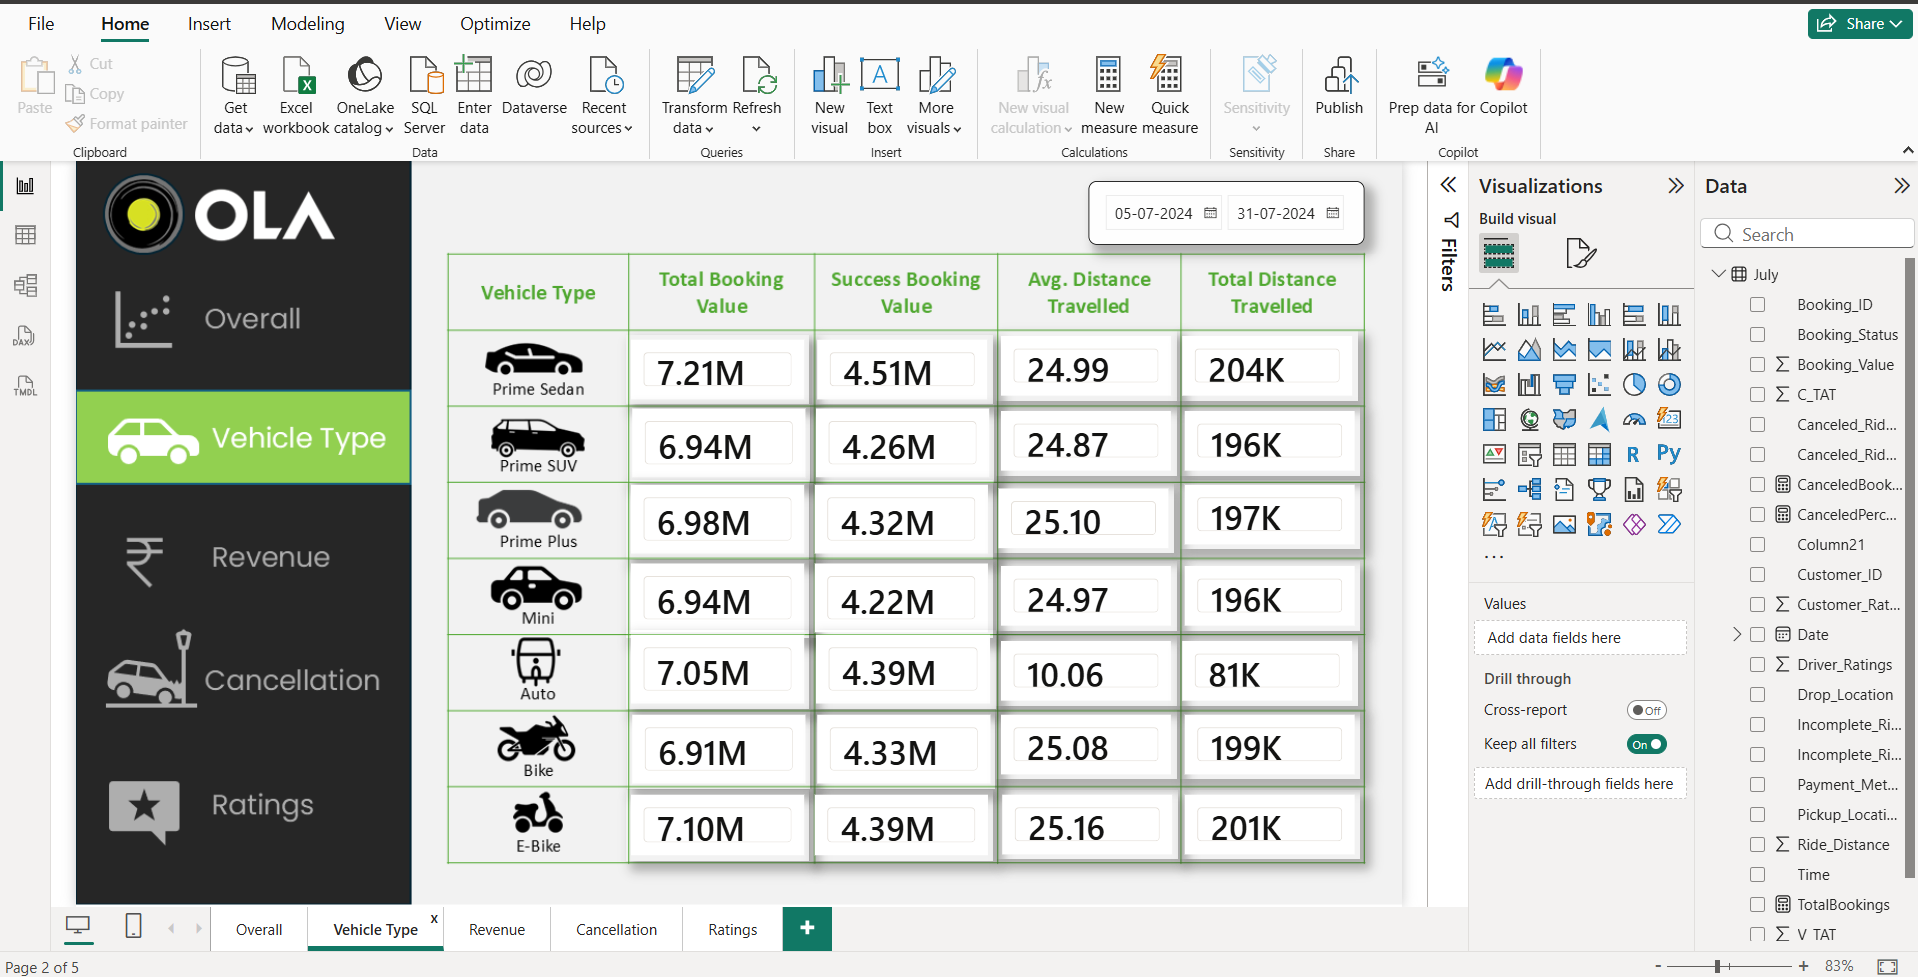

This screenshot's page, from the dashboard's own definition file:
{"tool":"powerbi","page":{"name":"Vehicle Type","canvas":[1280,720],"ordinal":1},"visuals":[{"type":"actionButton","box":[0,225.6,328.2,86.9],"z":0},{"type":"actionButton","box":[0,337.8,328.2,85.7],"z":1000},{"type":"actionButton","box":[0,444,319.7,94.1],"z":2000},{"type":"actionButton","box":[0,581.5,319.7,79.6],"z":3000},{"type":"actionButton","box":[0,114.6,328.2,83.2],"z":4000},{"type":"cardVisual","fields":{"Data":["Sum(July.Booking_Value)"]},"box":[531,167.4,177,67.2],"z":5000},{"type":"cardVisual","fields":{"Data":["Sum(July.Booking_Value)"]},"box":[532.4,234.6,177,76.8],"z":6000},{"type":"cardVisual","fields":{"Data":["Sum(July.Booking_Value)"]},"box":[531,307.4,177,76.8],"z":7000},{"type":"cardVisual","fields":{"Data":["Sum(July.Booking_Value)"]},"box":[531,384.2,177,76.8],"z":8000},{"type":"cardVisual","fields":{"Data":["Sum(July.Booking_Value)"]},"box":[531,452.8,177,76.8],"z":9000},{"type":"cardVisual","fields":{"Data":["Sum(July.Booking_Value)"]},"box":[532.4,529.7,177,76.8],"z":10000},{"type":"cardVisual","fields":{"Data":["Sum(July.Booking_Value)"]},"box":[531,606.5,177,68.6],"z":11000},{"type":"cardVisual","fields":{"Data":["Sum(July.Booking_Value)"]},"box":[710.8,167.4,174.3,67.2],"z":12000},{"type":"cardVisual","fields":{"Data":["Sum(July.Booking_Value)"]},"box":[709.4,234.6,177,76.8],"z":13000},{"type":"cardVisual","fields":{"Data":["Sum(July.Booking_Value)"]},"box":[708.1,307.4,177,76.8],"z":14000},{"type":"cardVisual","fields":{"Data":["Sum(July.Booking_Value)"]},"box":[708.1,384.2,177,76.8],"z":15000},{"type":"cardVisual","fields":{"Data":["Sum(July.Booking_Value)"]},"box":[709.4,452.8,178.4,76.8],"z":16000},{"type":"cardVisual","fields":{"Data":["Sum(July.Booking_Value)"]},"box":[710.8,529.7,177,76.8],"z":17000},{"type":"cardVisual","fields":{"Data":["Sum(July.Booking_Value)"]},"box":[708.1,606.5,177,68.6],"z":18000},{"type":"cardVisual","fields":{"Data":["Avg(July.Ride_Distance)"]},"box":[887.8,164.7,174.3,67.2],"z":19000},{"type":"cardVisual","fields":{"Data":["Avg(July.Ride_Distance)"]},"box":[887.8,236,174.3,67.2],"z":20000},{"type":"cardVisual","fields":{"Data":["Avg(July.Ride_Distance)"]},"box":[885.1,311.5,174.3,67.2],"z":21000},{"type":"cardVisual","fields":{"Data":["Avg(July.Ride_Distance)"]},"box":[887.8,385.6,174.3,67.2],"z":22000},{"type":"cardVisual","fields":{"Data":["Avg(July.Ride_Distance)"]},"box":[887.8,458.3,174.3,67.2],"z":23000},{"type":"cardVisual","fields":{"Data":["Avg(July.Ride_Distance)"]},"box":[887.8,529.7,174.3,67.2],"z":24000},{"type":"cardVisual","fields":{"Data":["Avg(July.Ride_Distance)"]},"box":[889.2,606.5,174.3,67.2],"z":25000},{"type":"cardVisual","fields":{"Data":["Sum(July.Ride_Distance)"]},"box":[1063.5,164.7,174.3,67.2],"z":26000},{"type":"cardVisual","fields":{"Data":["Sum(July.Ride_Distance)"]},"box":[1064.8,236,174.3,67.2],"z":27000},{"type":"cardVisual","fields":{"Data":["Sum(July.Ride_Distance)"]},"box":[1064.8,307.4,174.3,67.2],"z":28000},{"type":"cardVisual","fields":{"Data":["Sum(July.Ride_Distance)"]},"box":[1064.8,385.6,174.3,67.2],"z":29000},{"type":"cardVisual","fields":{"Data":["Sum(July.Ride_Distance)"]},"box":[1063.5,458.3,174.3,67.2],"z":30000},{"type":"cardVisual","fields":{"Data":["Sum(July.Ride_Distance)"]},"box":[1064.8,529.7,174.3,67.2],"z":31000},{"type":"cardVisual","fields":{"Data":["Sum(July.Ride_Distance)"]},"box":[1064.8,606.5,174.3,67.2],"z":32000},{"type":"slicer","title":"Date","fields":{"Values":["July.Date"]},"box":[977,19.2,266.2,61.7],"z":33000}]}

Visuals, with their boxes on the page's 1280x720 design canvas (x1, y1, x2, y2). These are canvas units, not pixel positions in the 1918x977 screenshot, which may show the page scaled, cropped or inside an application window:
actionButton: (left=0, top=226, right=328, bottom=312)
actionButton: (left=0, top=338, right=328, bottom=424)
actionButton: (left=0, top=444, right=320, bottom=538)
actionButton: (left=0, top=582, right=320, bottom=661)
actionButton: (left=0, top=115, right=328, bottom=198)
cardVisual - Sum(July.Booking_Value): (left=531, top=167, right=708, bottom=235)
cardVisual - Sum(July.Booking_Value): (left=532, top=235, right=709, bottom=311)
cardVisual - Sum(July.Booking_Value): (left=531, top=307, right=708, bottom=384)
cardVisual - Sum(July.Booking_Value): (left=531, top=384, right=708, bottom=461)
cardVisual - Sum(July.Booking_Value): (left=531, top=453, right=708, bottom=530)
cardVisual - Sum(July.Booking_Value): (left=532, top=530, right=709, bottom=606)
cardVisual - Sum(July.Booking_Value): (left=531, top=606, right=708, bottom=675)
cardVisual - Sum(July.Booking_Value): (left=711, top=167, right=885, bottom=235)
cardVisual - Sum(July.Booking_Value): (left=709, top=235, right=886, bottom=311)
cardVisual - Sum(July.Booking_Value): (left=708, top=307, right=885, bottom=384)
cardVisual - Sum(July.Booking_Value): (left=708, top=384, right=885, bottom=461)
cardVisual - Sum(July.Booking_Value): (left=709, top=453, right=888, bottom=530)
cardVisual - Sum(July.Booking_Value): (left=711, top=530, right=888, bottom=606)
cardVisual - Sum(July.Booking_Value): (left=708, top=606, right=885, bottom=675)
cardVisual - Avg(July.Ride_Distance): (left=888, top=165, right=1062, bottom=232)
cardVisual - Avg(July.Ride_Distance): (left=888, top=236, right=1062, bottom=303)
cardVisual - Avg(July.Ride_Distance): (left=885, top=312, right=1059, bottom=379)
cardVisual - Avg(July.Ride_Distance): (left=888, top=386, right=1062, bottom=453)
cardVisual - Avg(July.Ride_Distance): (left=888, top=458, right=1062, bottom=526)
cardVisual - Avg(July.Ride_Distance): (left=888, top=530, right=1062, bottom=597)
cardVisual - Avg(July.Ride_Distance): (left=889, top=606, right=1064, bottom=674)
cardVisual - Sum(July.Ride_Distance): (left=1064, top=165, right=1238, bottom=232)
cardVisual - Sum(July.Ride_Distance): (left=1065, top=236, right=1239, bottom=303)
cardVisual - Sum(July.Ride_Distance): (left=1065, top=307, right=1239, bottom=375)
cardVisual - Sum(July.Ride_Distance): (left=1065, top=386, right=1239, bottom=453)
cardVisual - Sum(July.Ride_Distance): (left=1064, top=458, right=1238, bottom=526)
cardVisual - Sum(July.Ride_Distance): (left=1065, top=530, right=1239, bottom=597)
cardVisual - Sum(July.Ride_Distance): (left=1065, top=606, right=1239, bottom=674)
"Date" slicer: (left=977, top=19, right=1243, bottom=81)
